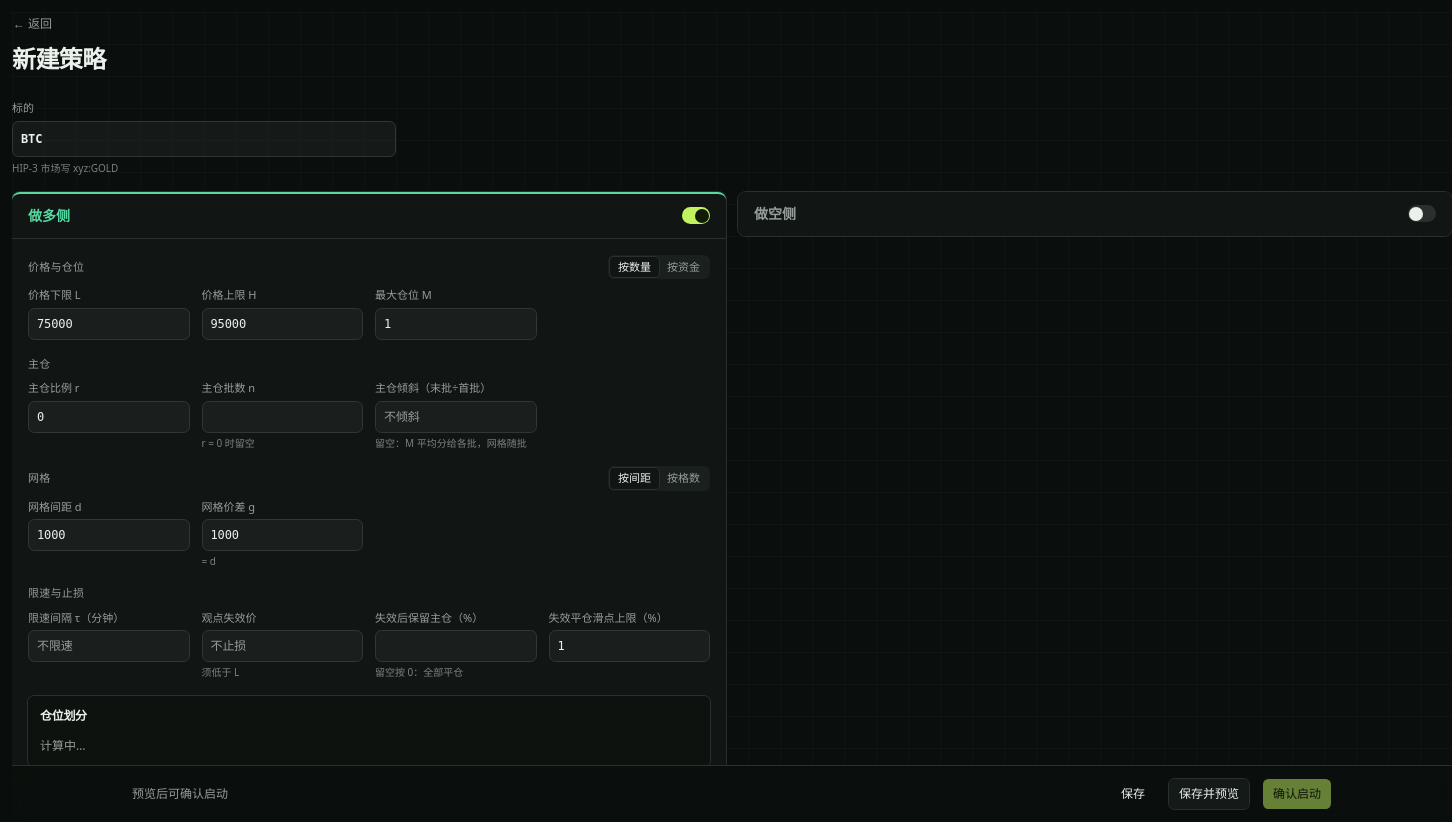
Test: 新建与确认启动 › 做空侧的批次从 L 往上排；没有主仓时提示留空
Click the switch named "启用做多侧". click: (696, 216)
box: [682,207,710,224]
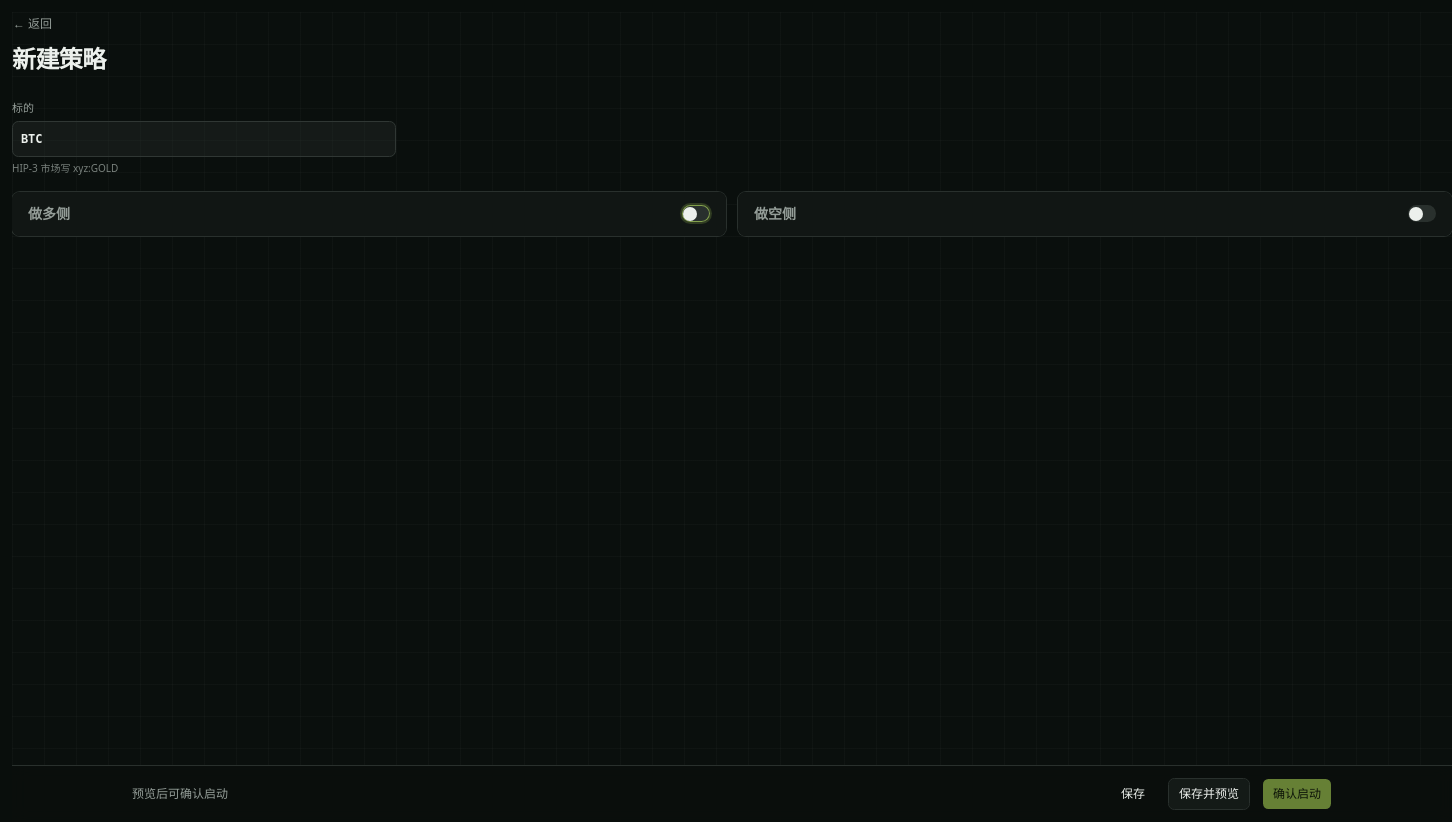
Click the switch named "启用做空侧". click: (1422, 214)
box: [1408,205,1436,222]
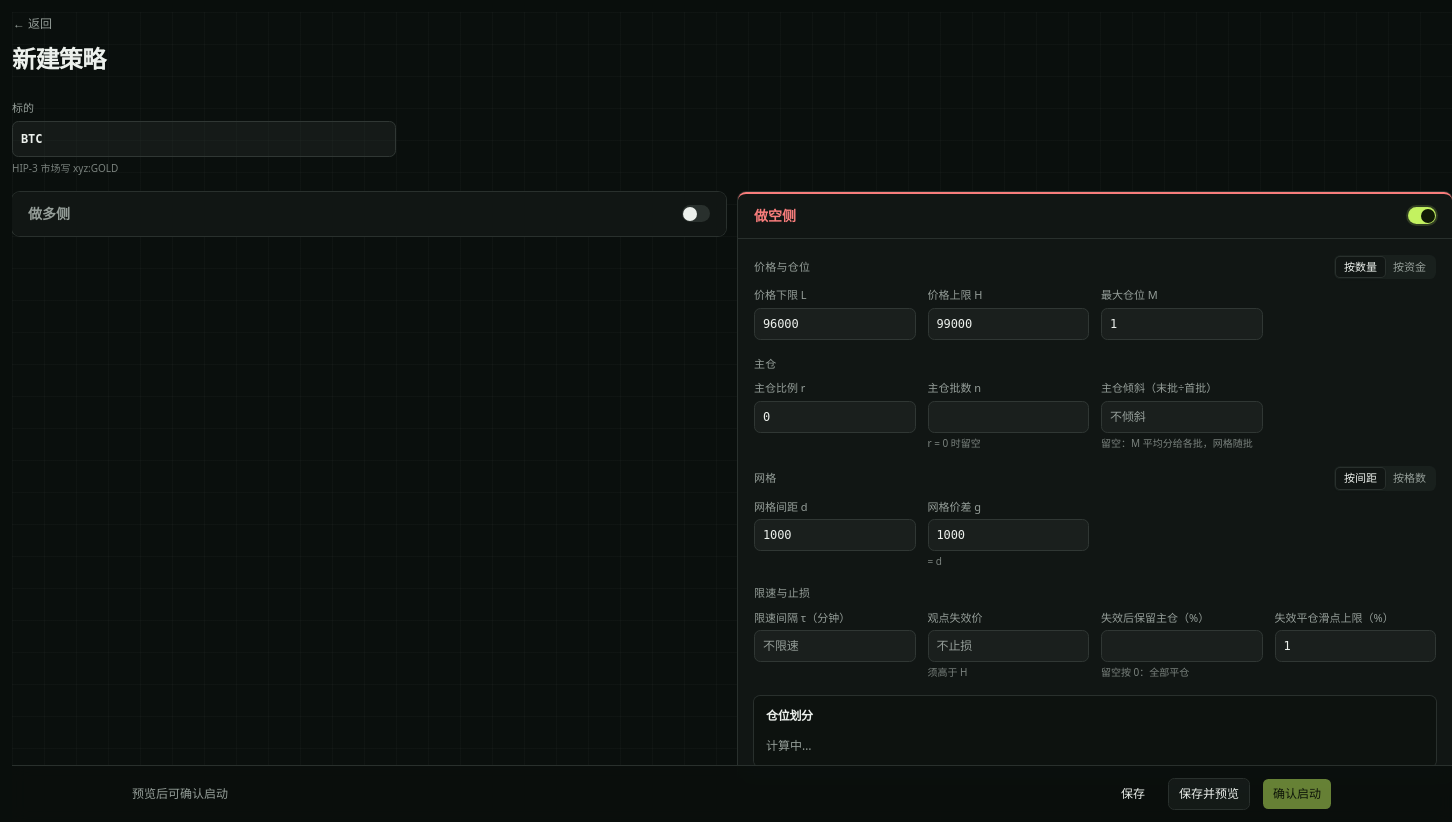
Now the text "r = 0 时留空" is shown, box [928,436,981,450]
Replace the text in the field labelled "主仓比例 r" with "0.5". click: (835, 416)
box: [754,400,916,432]
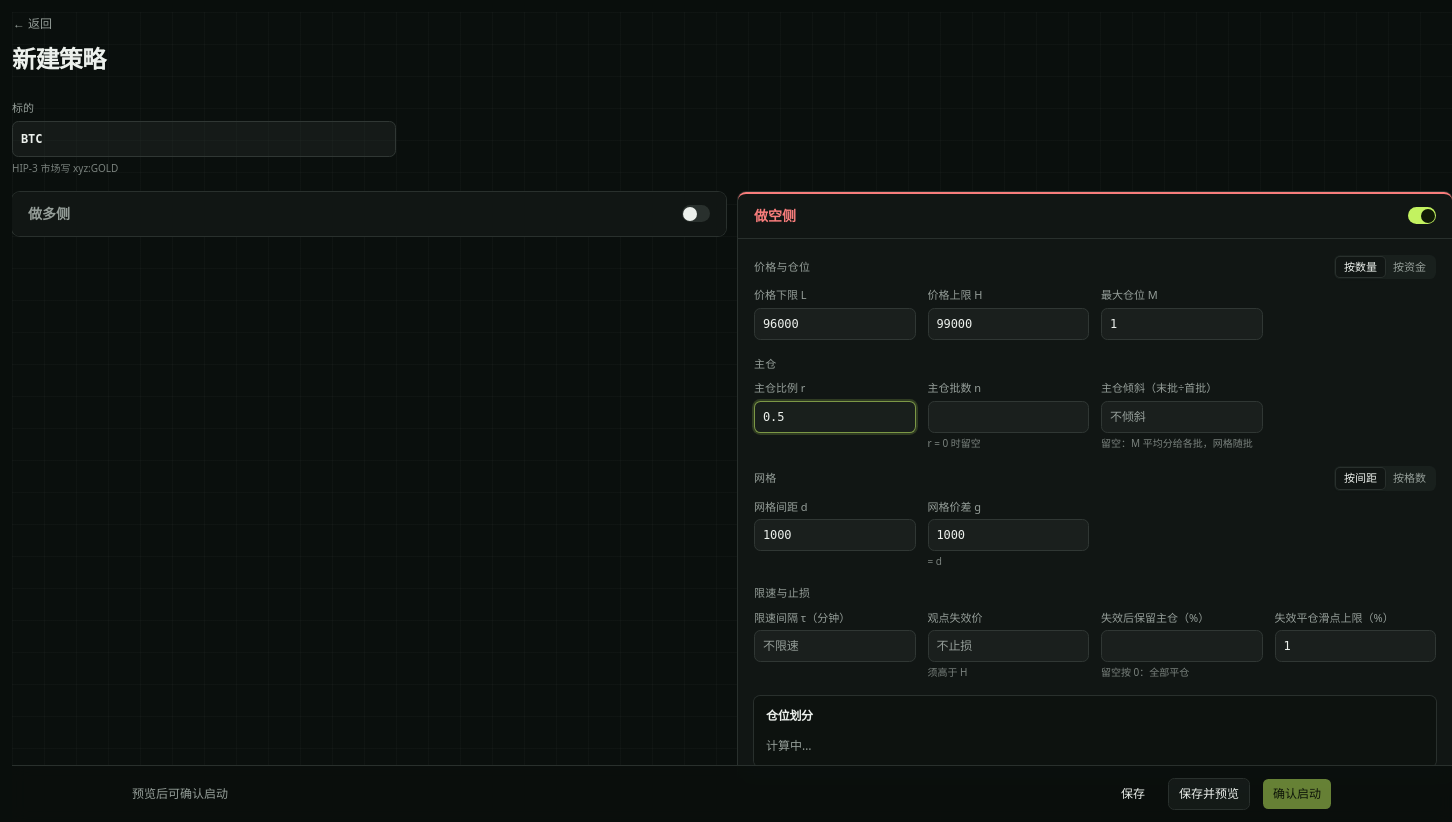
Type "3" into the field labelled "主仓批数 n". click: (1008, 416)
box: [928,400,1089,432]
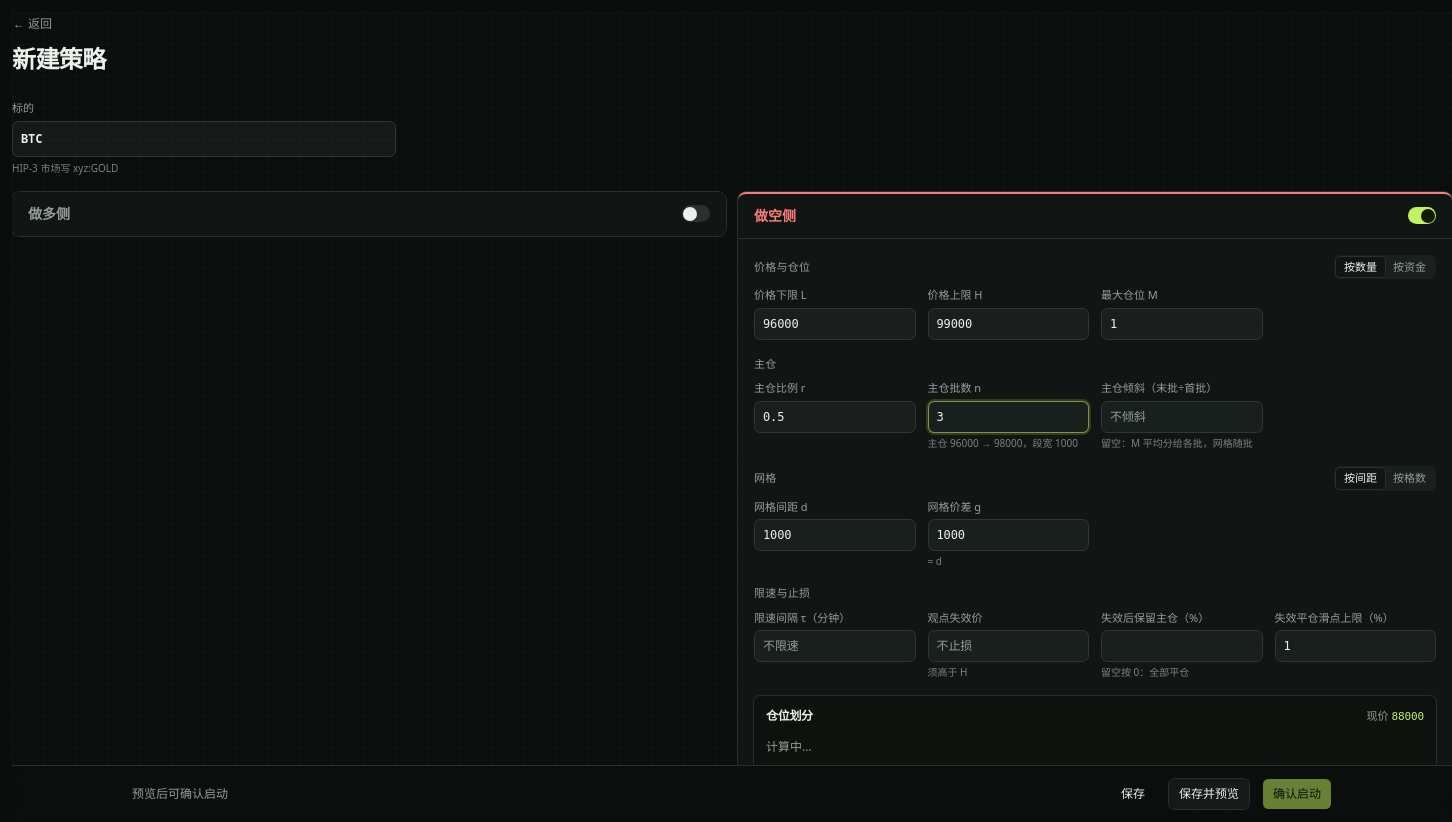
Now the text "主仓 96000 → 98000，段宽 1000" is shown, box [928,436,1089,450]
